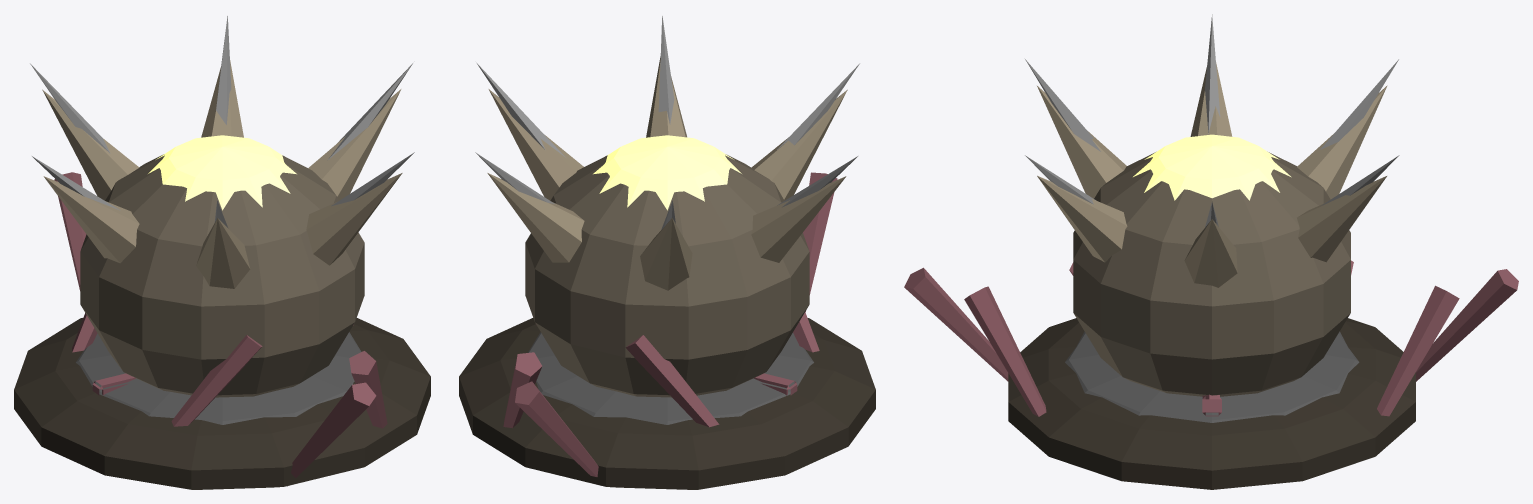
Rendered from bl_bloom.glb.
The picture shows the model from 3 angles, left to right: view 1: azimuth 30°, elevation 25°; view 2: azimuth 150°, elevation 25°; view 3: azimuth 270°, elevation 25°; orthographic projection.
Visible parts, largest first — view 1: body; view 2: body; view 3: body.
Part boxes in pixels (x1=…): body: x1=14, y1=16, x2=430, y2=489; body: x1=459, y1=16, x2=875, y2=489; body: x1=904, y1=14, x2=1518, y2=489.
Size of the model in its own units: 72.79 by 59.66 by 101.
